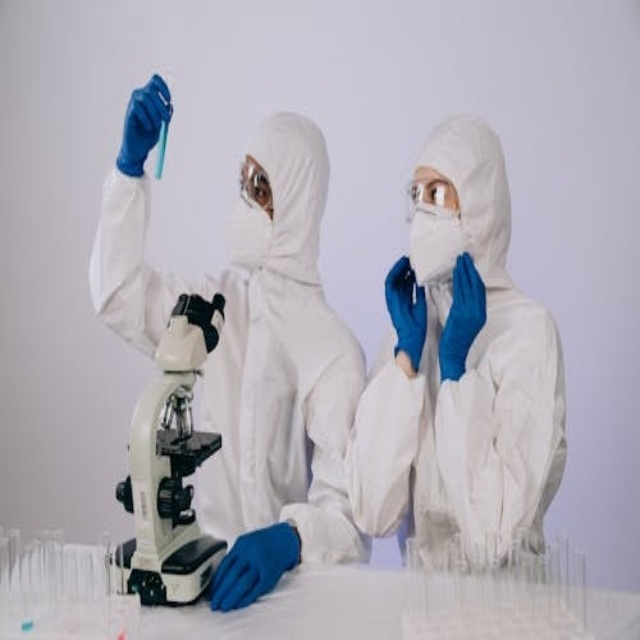Gafas: (405, 181, 459, 221), (238, 159, 272, 213)
Guantes: (204, 511, 306, 609), (114, 69, 177, 177), (442, 252, 492, 375), (381, 246, 430, 369)
Mascara: (408, 202, 466, 286), (226, 188, 274, 268)
